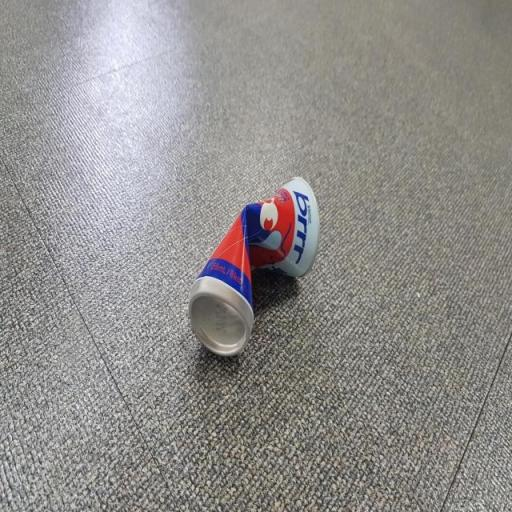metal: (172, 140, 336, 387)
